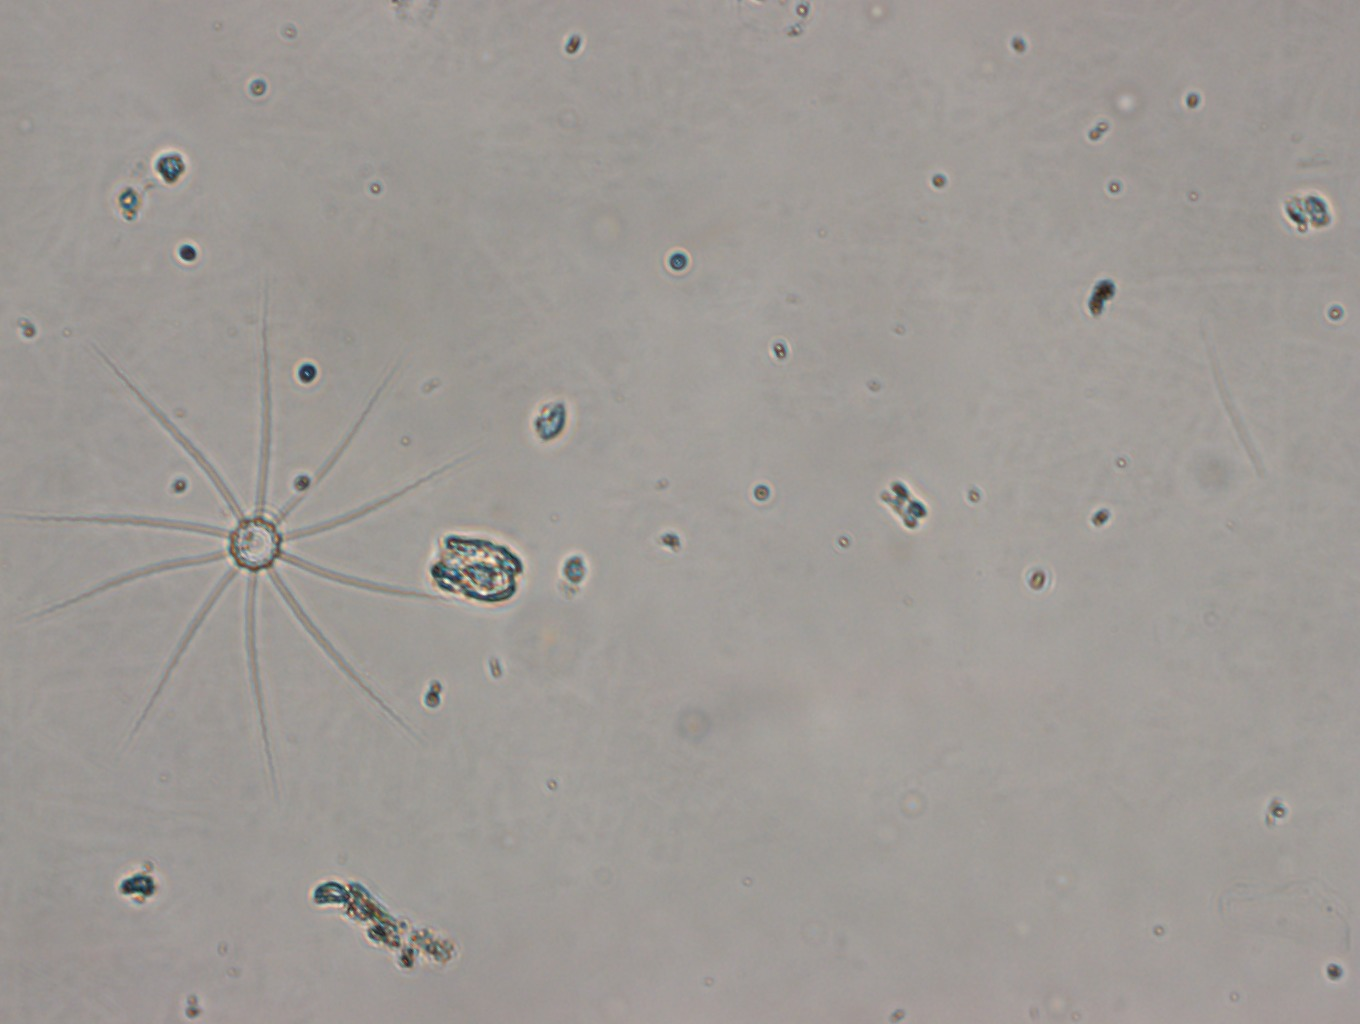bacteriastrum: (48, 326, 469, 778)
